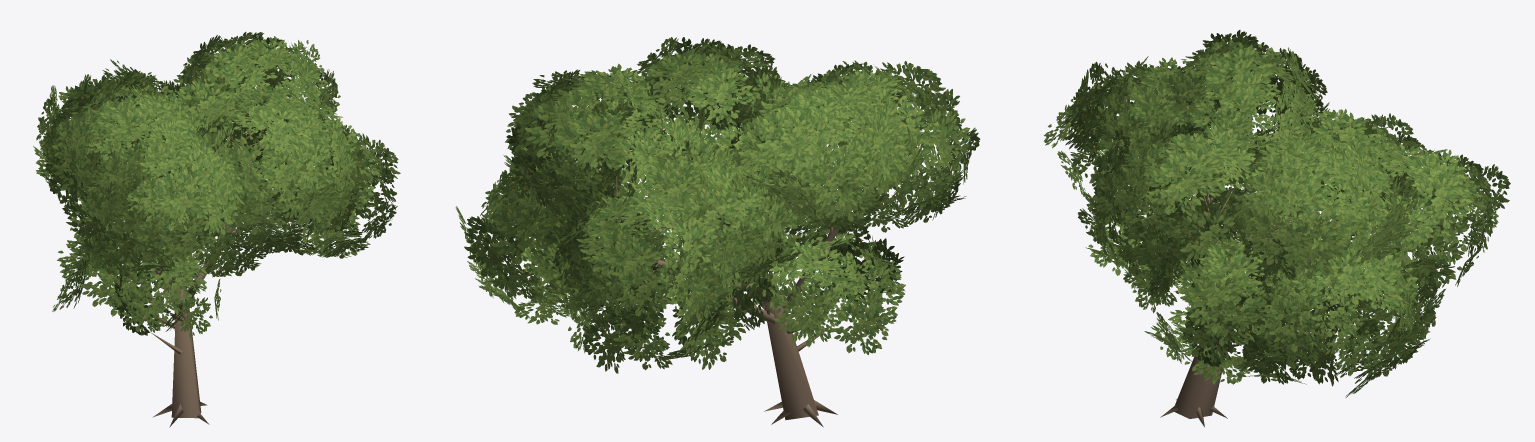
The model's file is eco_tree_deciduous_a_LOD1.glb.
The picture shows the model from 3 angles, left to right: view 1: azimuth 30°, elevation 25°; view 2: azimuth 150°, elevation 25°; view 3: azimuth 270°, elevation 25°; orthographic projection. The views are drawn at different scales.
Visible parts, largest first — view 1: eco_tree_deciduous_a_LOD1; view 2: eco_tree_deciduous_a_LOD1; view 3: eco_tree_deciduous_a_LOD1.
Boxes of the visible parts, box(x1,y1,x2,y2) form: eco_tree_deciduous_a_LOD1: box(33, 32, 400, 427); eco_tree_deciduous_a_LOD1: box(455, 37, 980, 427); eco_tree_deciduous_a_LOD1: box(1043, 30, 1510, 427).
Size of the model in its own units: 7.36 by 6.22 by 7.49.
Materials: 2 (1 with a texture image).
